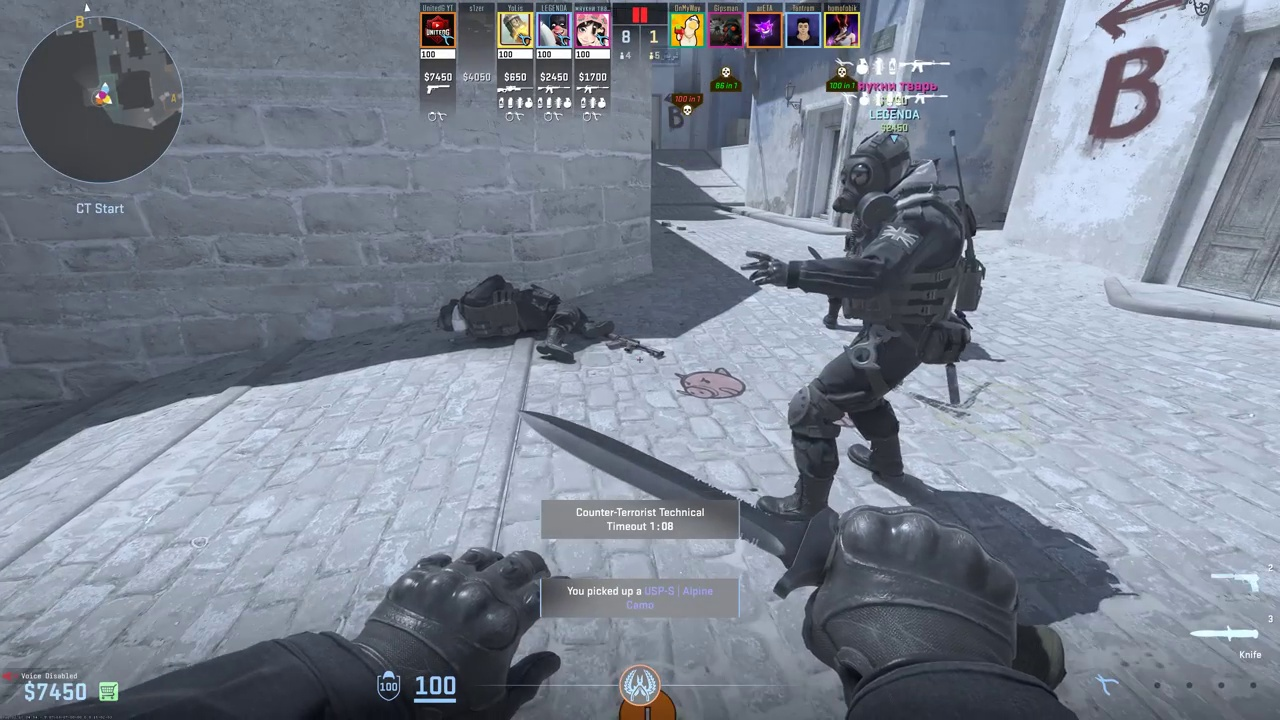CT: (784, 133, 965, 506)
Terrorist: (1083, 0, 1168, 162)
